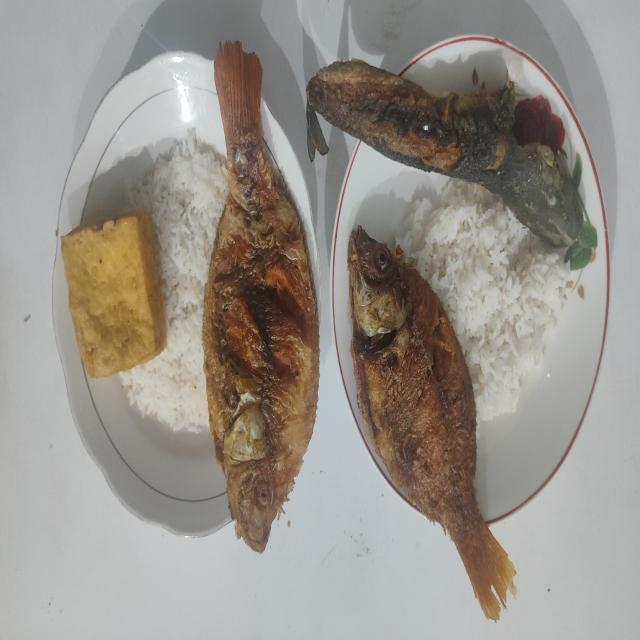ikan_mujair: (348, 225, 516, 620), (202, 41, 320, 553)
nasi_putih: (394, 180, 572, 420), (120, 128, 228, 434)
tahu_goreng: (62, 208, 166, 378)
